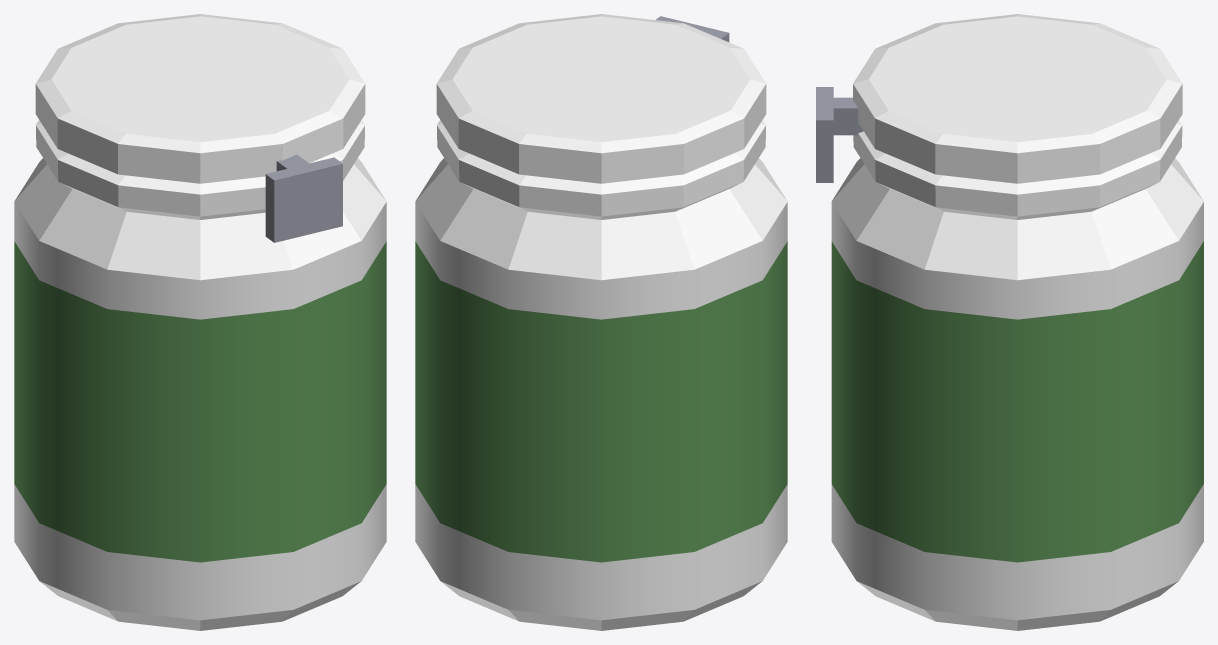
File: SM_chewing_gums_02.fbx
3 views of the same model, side by side, from view 1: azimuth 30°, elevation 25°; view 2: azimuth 150°, elevation 25°; view 3: azimuth 270°, elevation 25° (orthographic).
Parts seen in each view (by area): view 1: chewing_gums_02; view 2: chewing_gums_02; view 3: chewing_gums_02.
Boxes of the visible parts, x1=… form: chewing_gums_02: x1=14, y1=14, x2=386, y2=630; chewing_gums_02: x1=415, y1=14, x2=787, y2=630; chewing_gums_02: x1=816, y1=14, x2=1203, y2=630.
Bounding box in the file's own units: 16.27 × 23.26 × 16.95.
